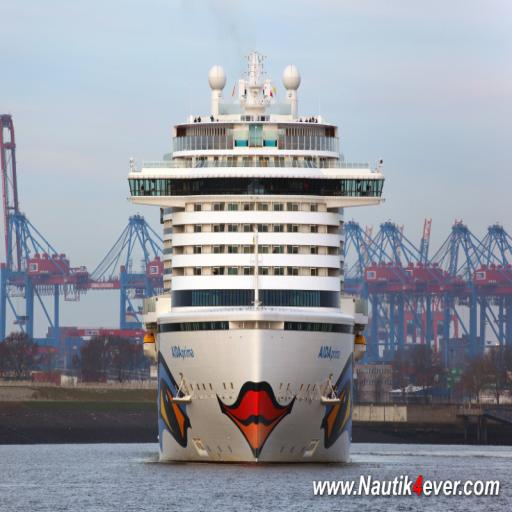cruises: (109, 42, 388, 475)
